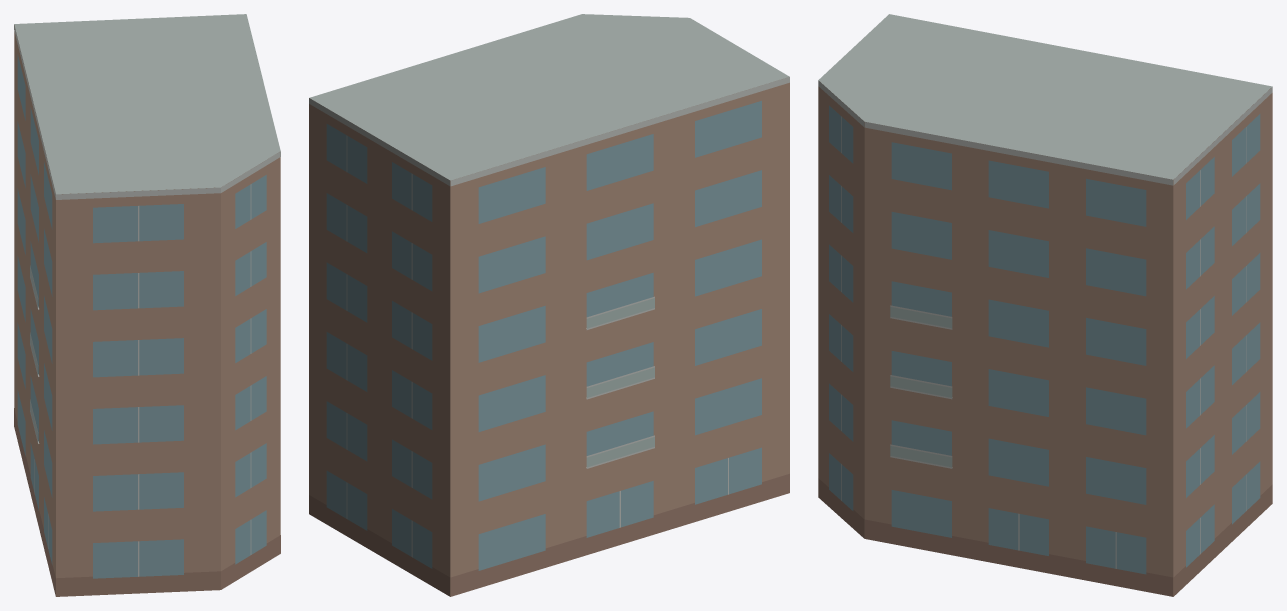
The model's file is survey-upis-32950553.glb.
The picture shows the model from 3 angles, left to right: view 1: azimuth 30°, elevation 25°; view 2: azimuth 150°, elevation 25°; view 3: azimuth 270°, elevation 25°; orthographic projection. The views are drawn at different scales.
Parts seen in each view (by area): view 1: survey-upis-32950553.tmp; view 2: survey-upis-32950553.tmp; view 3: survey-upis-32950553.tmp.
Boxes of the visible parts, x1,y1,x2,y2 form: survey-upis-32950553.tmp: (14, 14, 280, 596); survey-upis-32950553.tmp: (309, 14, 789, 596); survey-upis-32950553.tmp: (818, 14, 1272, 596).
Size of the model in its own units: 14.67 by 17.2 by 16.99.
